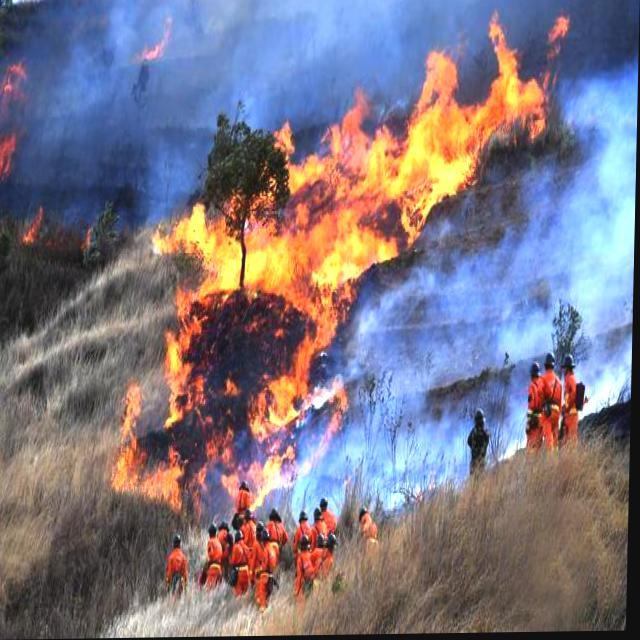Fire: (115, 4, 557, 510), (23, 206, 98, 256), (0, 58, 29, 186)
